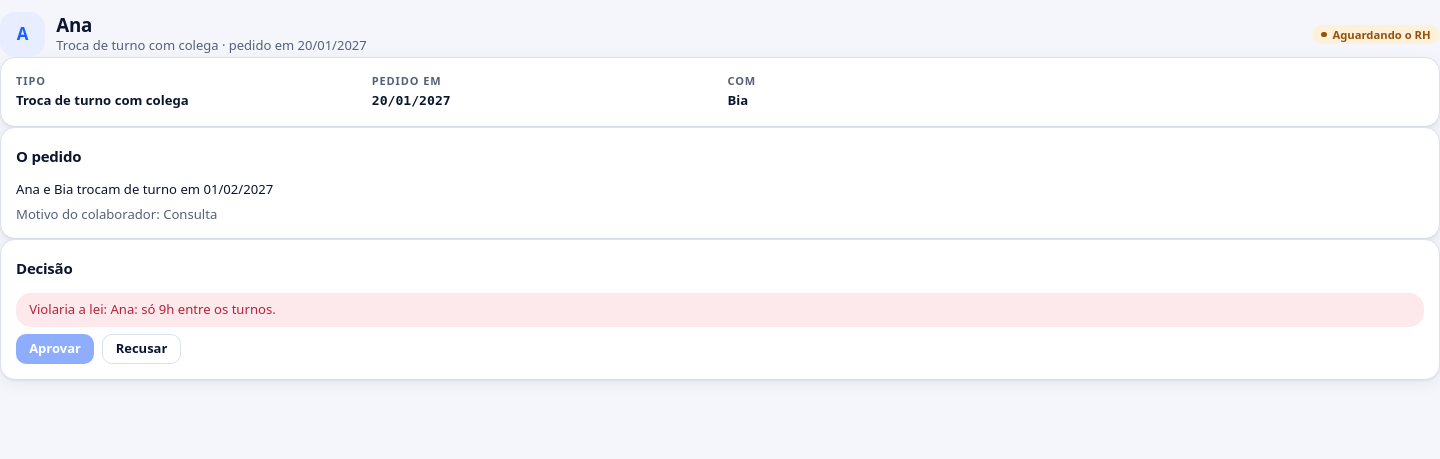
tela do pedido (RH) › violação da lei bloqueia a aprovação e mostra a mensagem; recusar continua possível
Check: the text "Violaria a lei: Ana: só 9h entre os turnos." is shown, box [16,293,1424,327]
Check: the button with aria-label "Aprovar:" is disabled, box [16,334,94,364]
Click the button with aria-label "Recusar:" at (142, 349), box [102,334,182,364]
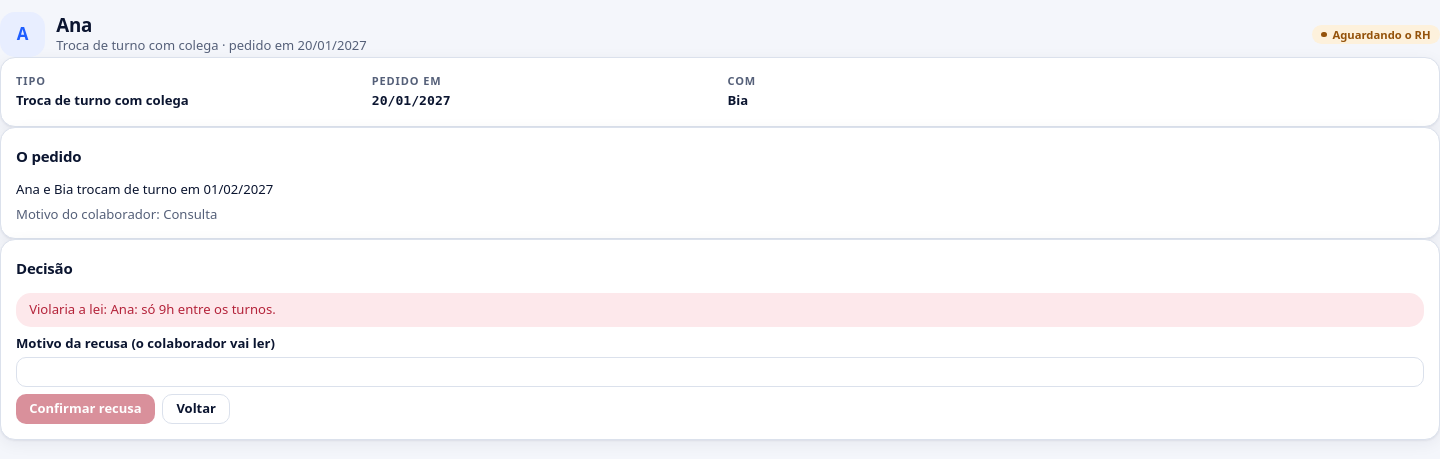
Check: the button "Confirmar recusa" is disabled, box [16,394,155,424]
Type "Intervalo entre jornadas" into the field labelled "Motivo da recusa (o colaborador vai ler)" at (720, 372), box [16,356,1424,386]
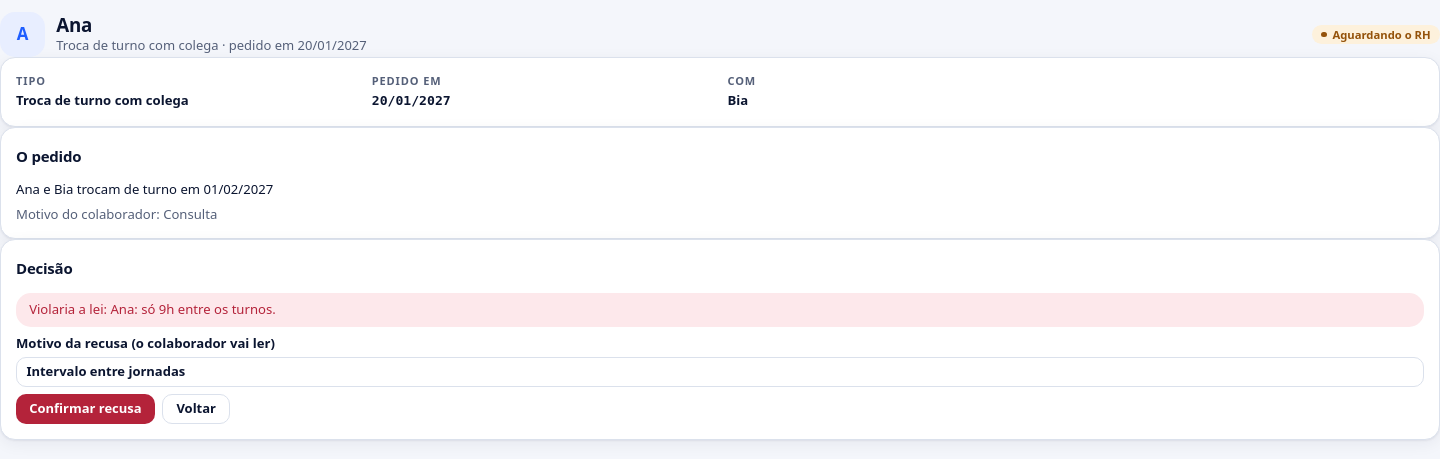
Click the button "Confirmar recusa" at (85, 409), box [16,394,155,424]
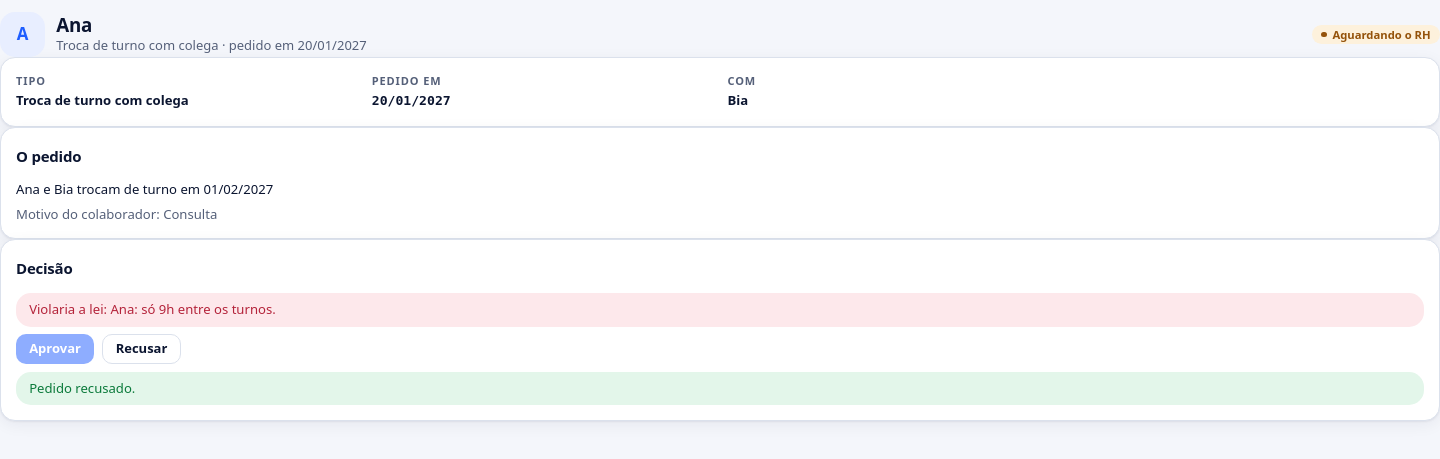
Check: the text "Pedido recusado." is shown, box [16,372,1424,405]
